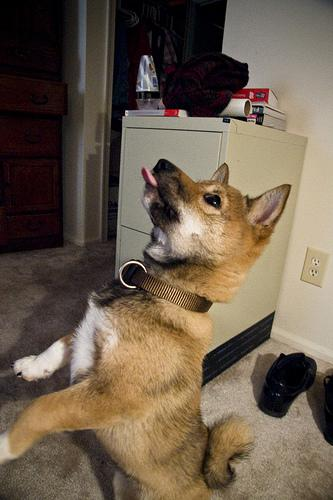dog-shiba_inu: (139, 157, 289, 241)
